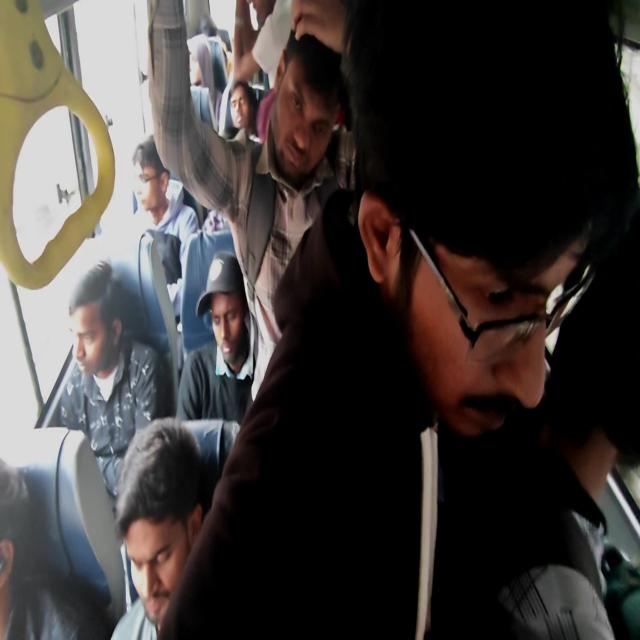person: (373, 35, 586, 487), (114, 479, 204, 624), (278, 36, 348, 168), (204, 286, 255, 431), (0, 408, 33, 593), (65, 286, 115, 401), (140, 147, 180, 250), (182, 49, 228, 119), (226, 83, 262, 157), (194, 12, 233, 36)
